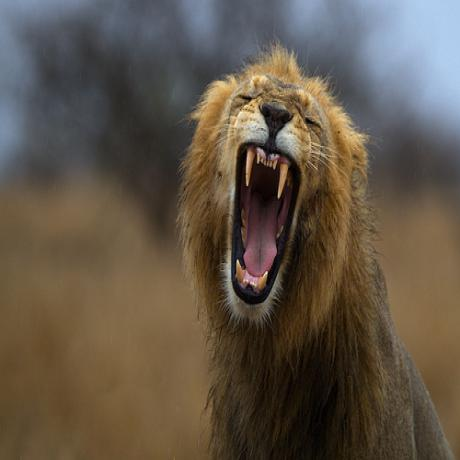Lion: (180, 44, 454, 460)
